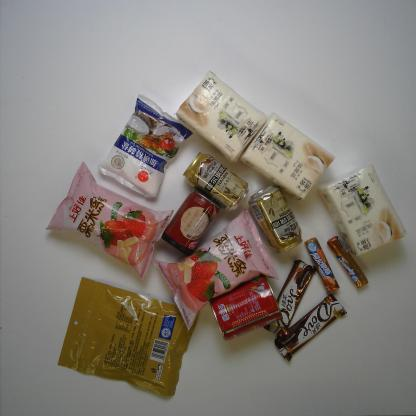Alcohol: (182, 152, 251, 212), (247, 184, 305, 254)
Candy: (327, 234, 369, 289), (304, 236, 340, 292)
Canned Food: (209, 274, 284, 343), (160, 186, 221, 257)
Chocolate: (274, 292, 347, 362), (263, 259, 317, 339)
Dried Fruit: (57, 276, 201, 397)
Puffed Food: (46, 160, 174, 281), (154, 210, 280, 332)
Seasoner: (98, 93, 197, 198)
Tissue: (238, 112, 337, 202), (175, 69, 269, 162), (318, 164, 406, 260)
